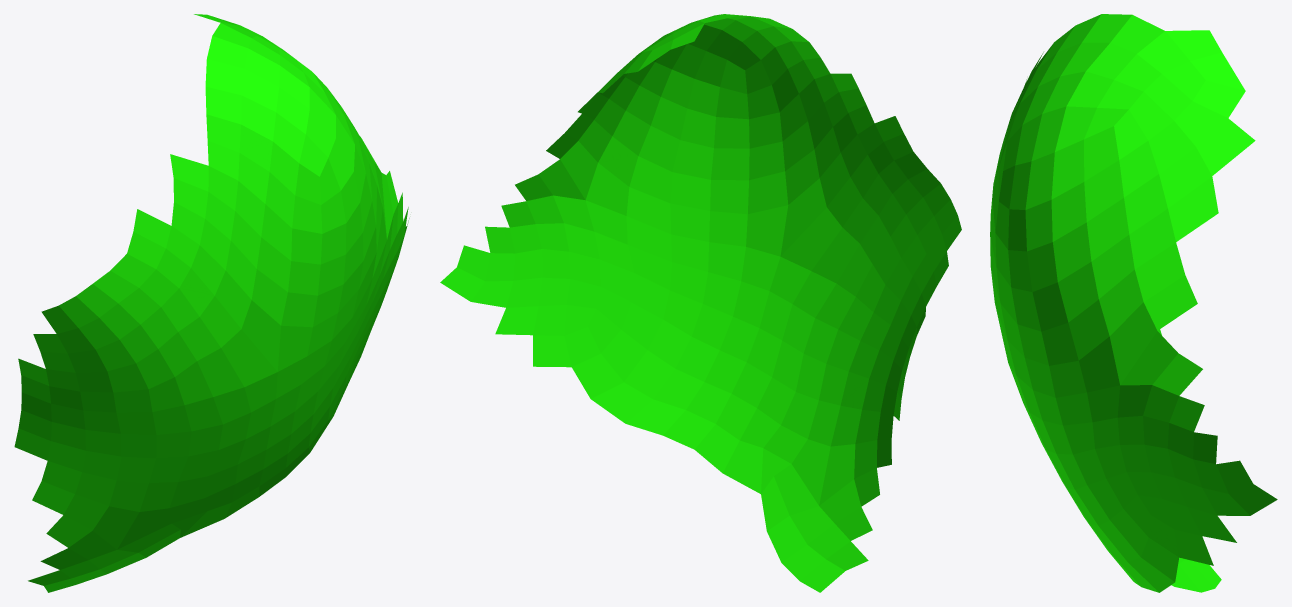
Rendered from Explanatory_NP_Remeshed.obj.
3 views of the same model, side by side, from view 1: azimuth 30°, elevation 25°; view 2: azimuth 150°, elevation 25°; view 3: azimuth 270°, elevation 25° (orthographic). The views are drawn at different scales.
Parts seen in each view (by area): view 1: Explanatory_Remeshed; view 2: Explanatory_Remeshed; view 3: Explanatory_Remeshed.
Part boxes in pixels (bbox=[...]): Explanatory_Remeshed: bbox=[14, 14, 409, 592]; Explanatory_Remeshed: bbox=[440, 14, 961, 592]; Explanatory_Remeshed: bbox=[990, 14, 1277, 592].
Size of the model in its own units: 1.43 by 1.65 by 0.6791.
